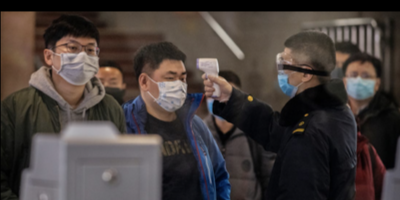with_mask: (52, 39, 100, 86), (151, 69, 188, 112), (276, 51, 304, 99), (344, 67, 377, 101), (95, 74, 123, 102)
